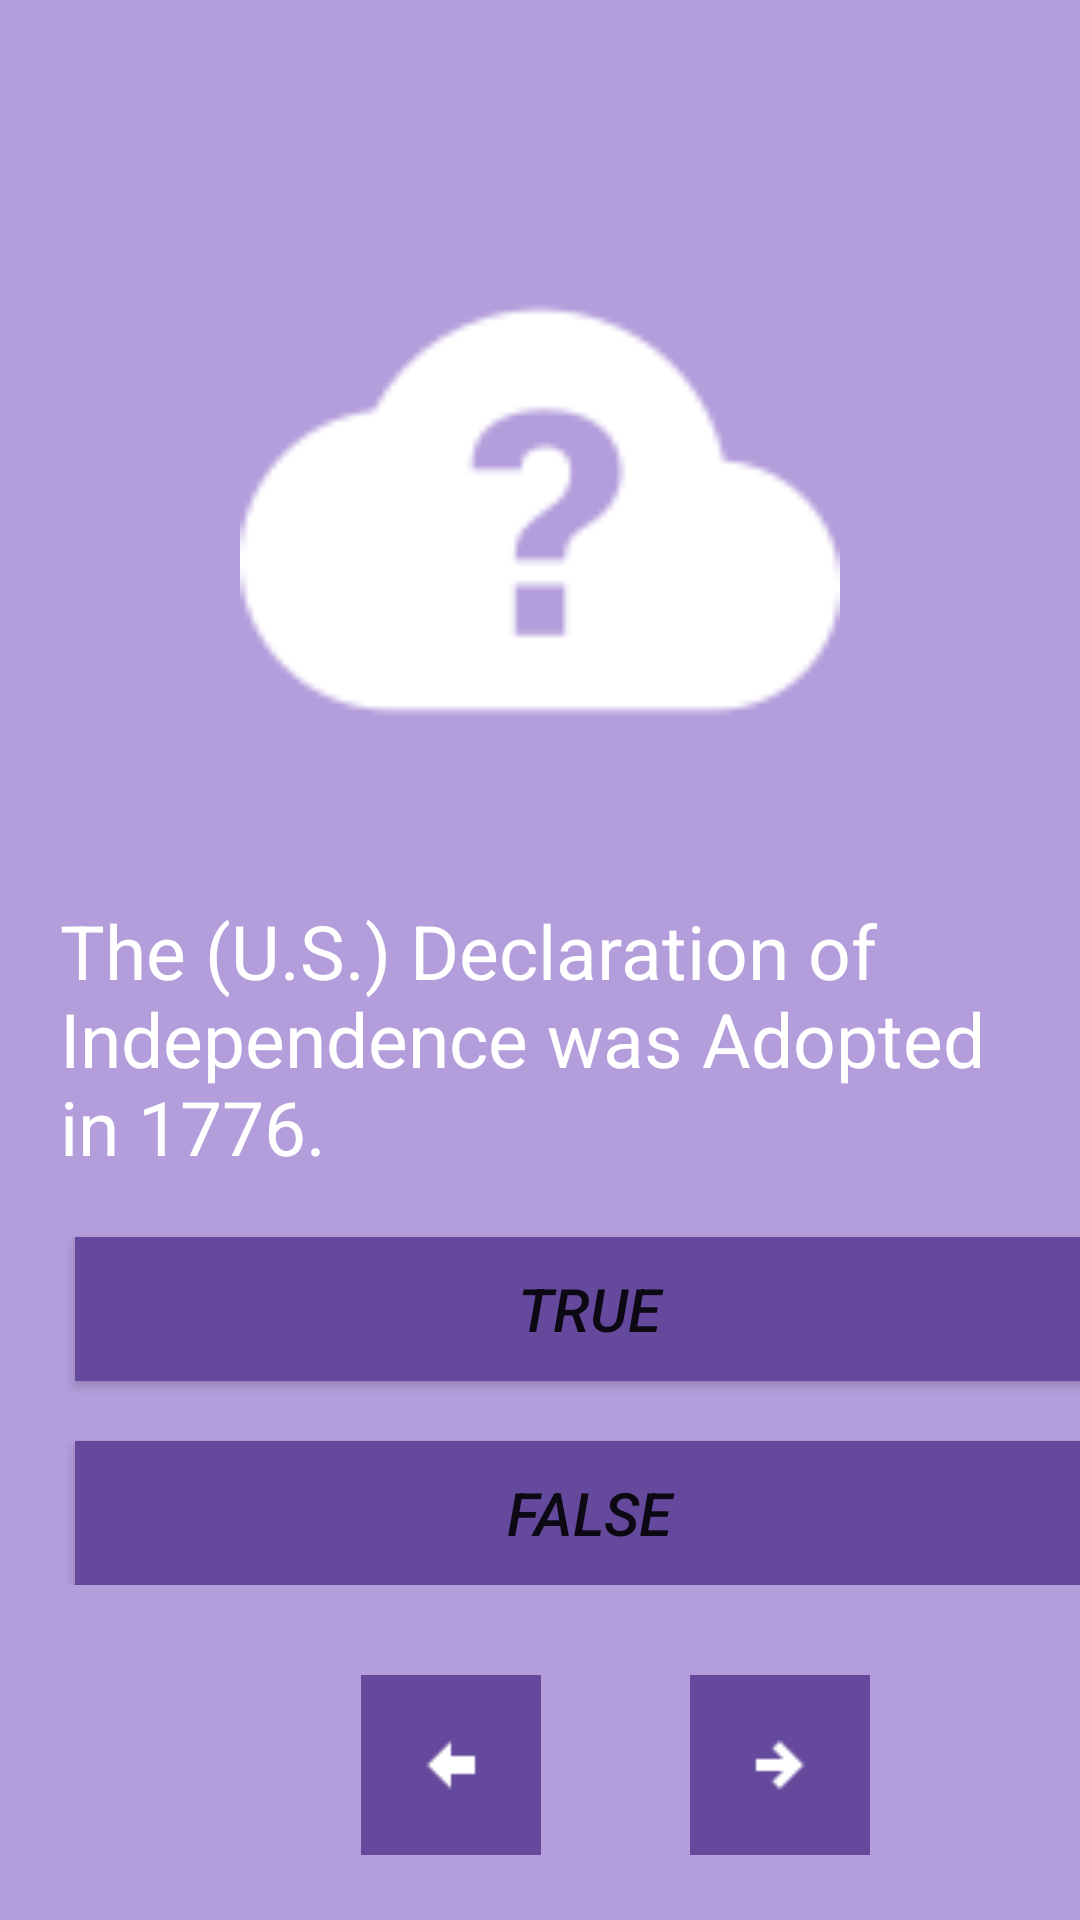

Screen size 1080×1920. Icon name, then its box in pixels as (x1, y1, x2, y2):
next: (690, 1675, 870, 1855)
previous: (361, 1675, 541, 1855)
